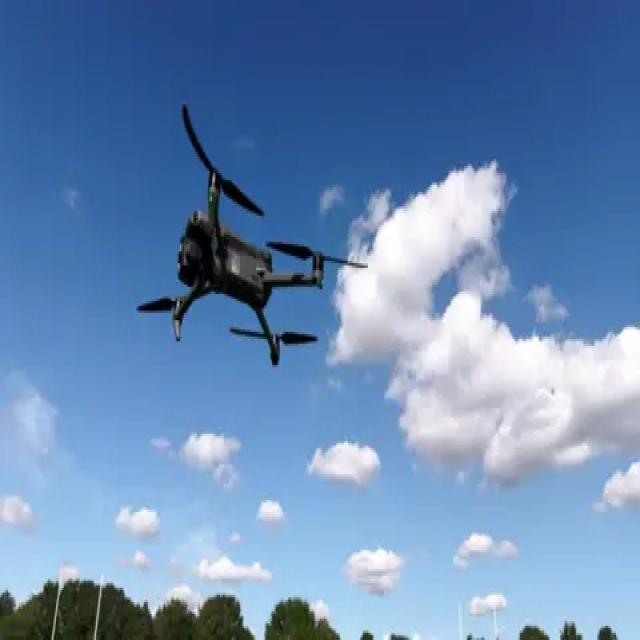drone: (134, 103, 351, 376)
